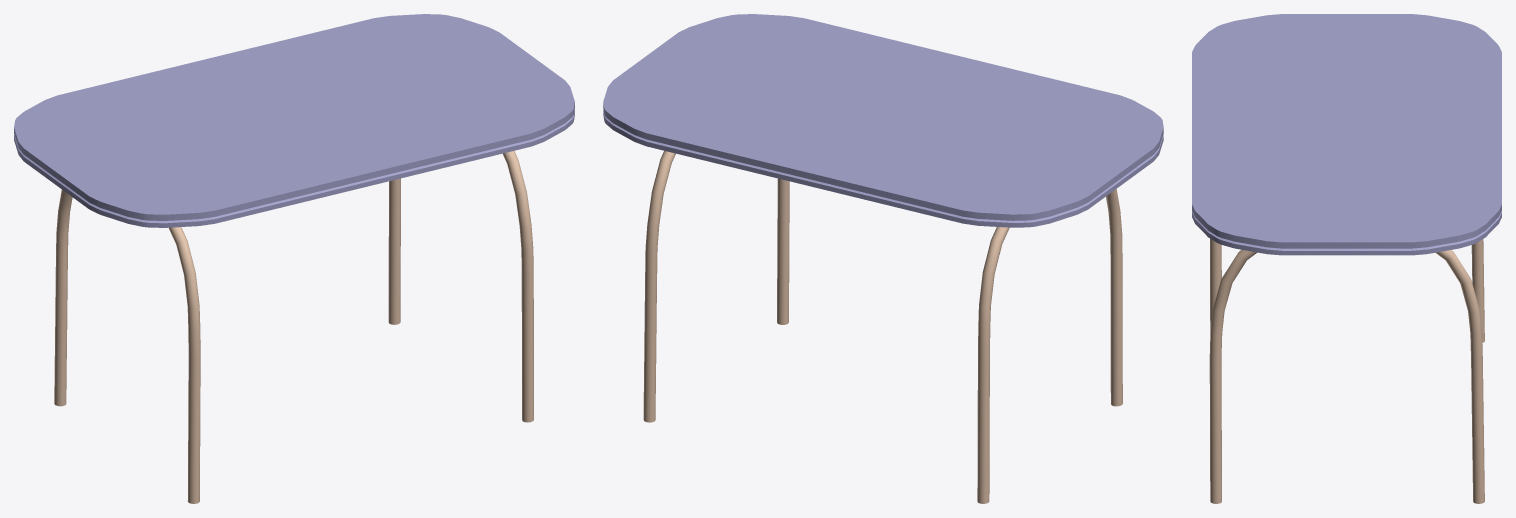
Rendered from SM_table_02.fbx.
The picture shows the model from 3 angles, left to right: view 1: azimuth 30°, elevation 25°; view 2: azimuth 150°, elevation 25°; view 3: azimuth 270°, elevation 25°; orthographic projection.
Parts seen in each view (by area): view 1: table_02; view 2: table_02; view 3: table_02.
Part boxes in pixels (x1=…): table_02: x1=14, y1=14, x2=574, y2=503; table_02: x1=603, y1=14, x2=1163, y2=503; table_02: x1=1192, y1=14, x2=1501, y2=503.
Bounding box in the file's own units: 148 × 88.41 × 84.7.
